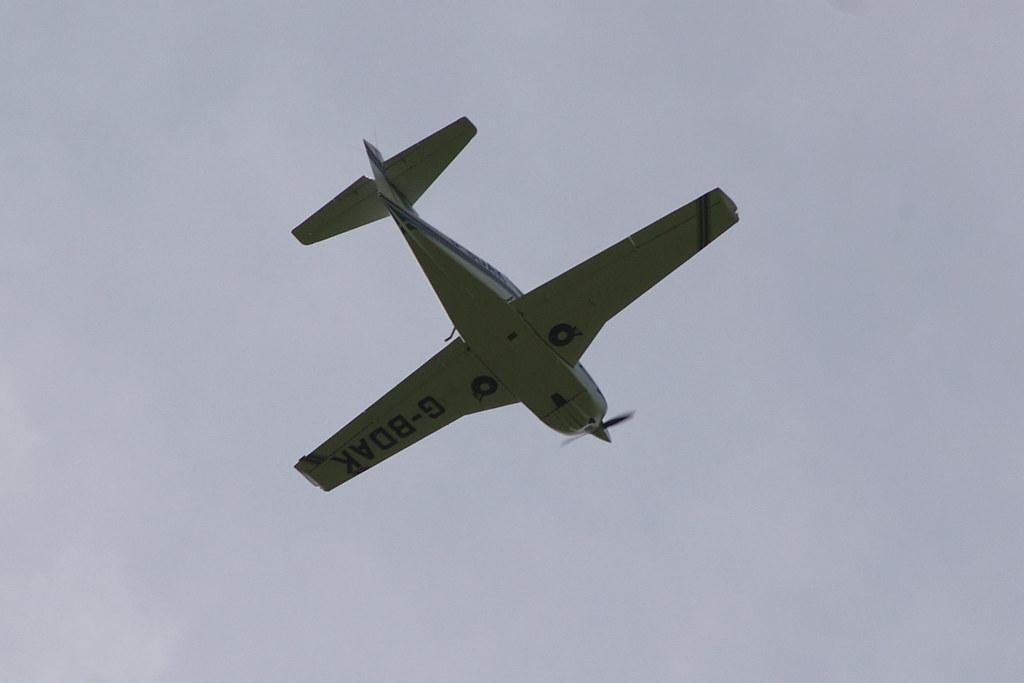plane: (290, 115, 741, 493)
